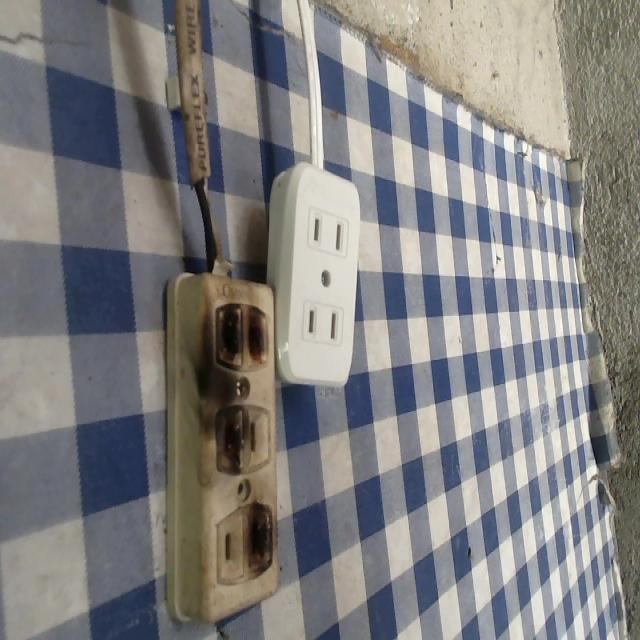-: (204, 298, 274, 382), (243, 496, 280, 576), (211, 403, 251, 476)
